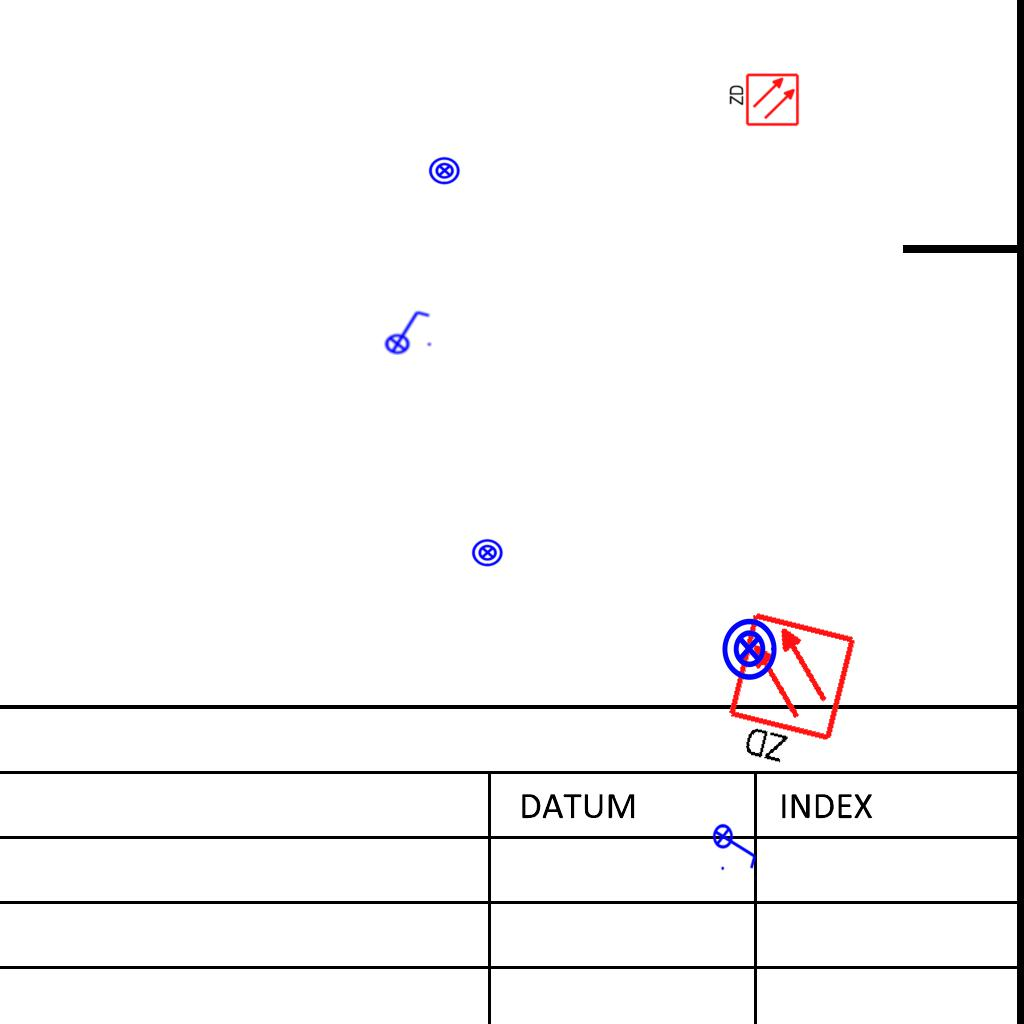Ausschalter_beleuchtet: (378, 307, 434, 355), (712, 817, 760, 873)
Taster_beleuchtet: (716, 616, 782, 682), (471, 536, 504, 569), (428, 154, 461, 187)
ZD_Melder_in_Zwischendecke_mit_Revisionsoeffnung_mind_40_x_40_cm: (715, 609, 863, 782), (726, 72, 800, 129)
